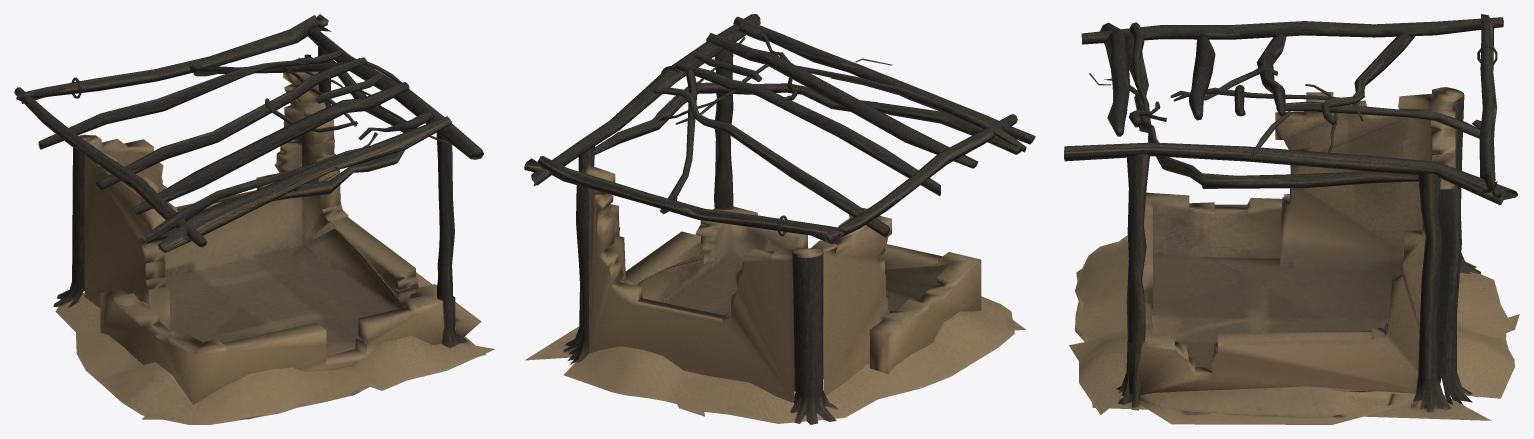
Rendered from yanik_ev.glb.
The picture shows the model from 3 angles, left to right: view 1: azimuth 30°, elevation 25°; view 2: azimuth 150°, elevation 25°; view 3: azimuth 270°, elevation 25°; orthographic projection. The views are drawn at different scales.
Size of the model in its own units: 0.9619 by 0.6445 by 0.9404.
1 material, 1 textured.
